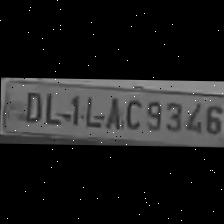1: (62, 90, 82, 127)
3: (162, 96, 182, 132)
4: (182, 98, 202, 134)
6: (202, 100, 224, 136)
9: (142, 96, 162, 130)
A: (101, 93, 121, 129)
C: (122, 96, 142, 130)
D: (19, 88, 44, 124)
L: (42, 89, 64, 125), (82, 92, 102, 129)
